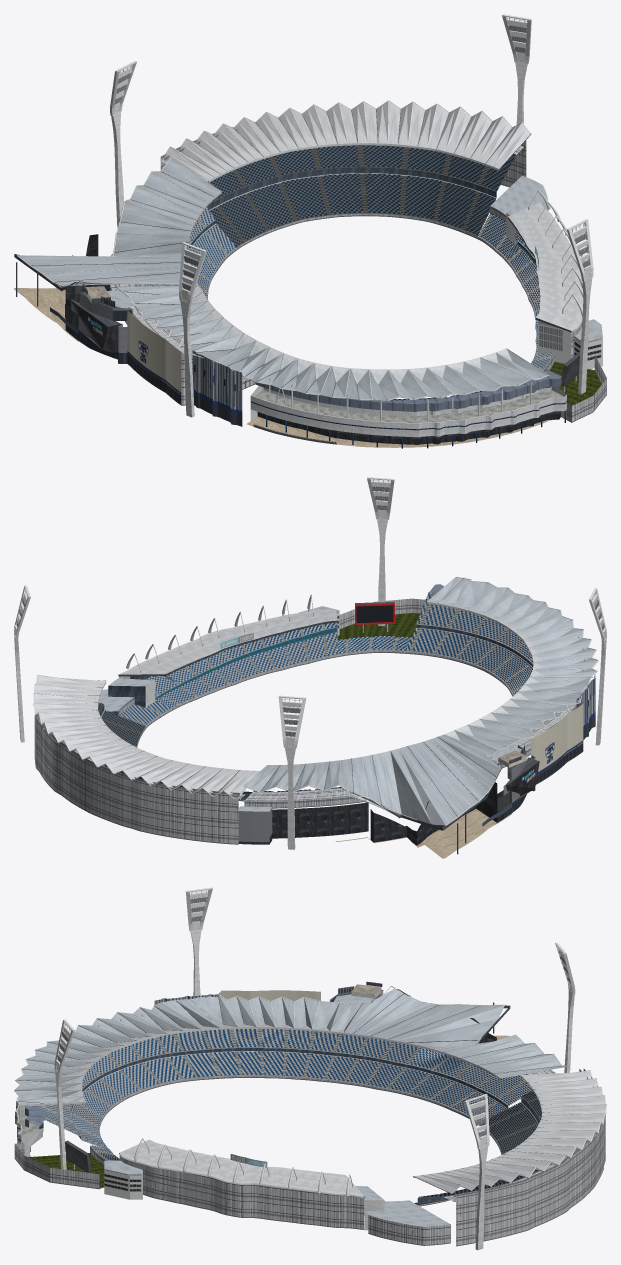
Rendered from gmhba_tex2.glb.
3 views of the same model, one above another, from view 1: azimuth 30°, elevation 25°; view 2: azimuth 150°, elevation 25°; view 3: azimuth 270°, elevation 25° (orthographic). The views are drawn at different scales.
Visible parts, largest first — view 1: gmhba; view 2: gmhba; view 3: gmhba.
Boxes of the visible parts, box(x1,y1,x2,y2) form: gmhba: box(14, 14, 606, 448); gmhba: box(14, 477, 606, 858); gmhba: box(14, 887, 606, 1250).
Bounding box in the file's own units: 236 × 74.7 × 269.
37 materials, 37 textured.
